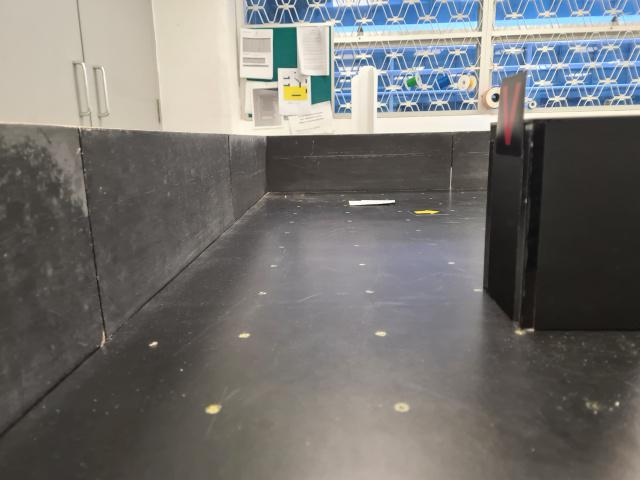alphabet_v: (498, 73, 528, 158)
